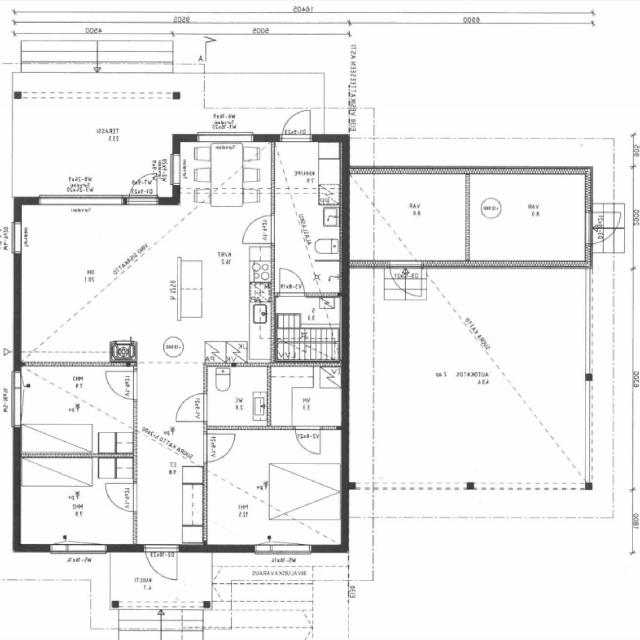door: (389, 260, 422, 302), (146, 544, 178, 586), (585, 212, 626, 244), (128, 166, 160, 205), (281, 104, 311, 142), (103, 370, 137, 400), (202, 434, 235, 462), (104, 485, 137, 513), (243, 216, 276, 243), (175, 394, 207, 421), (279, 266, 304, 296), (296, 425, 320, 453)
